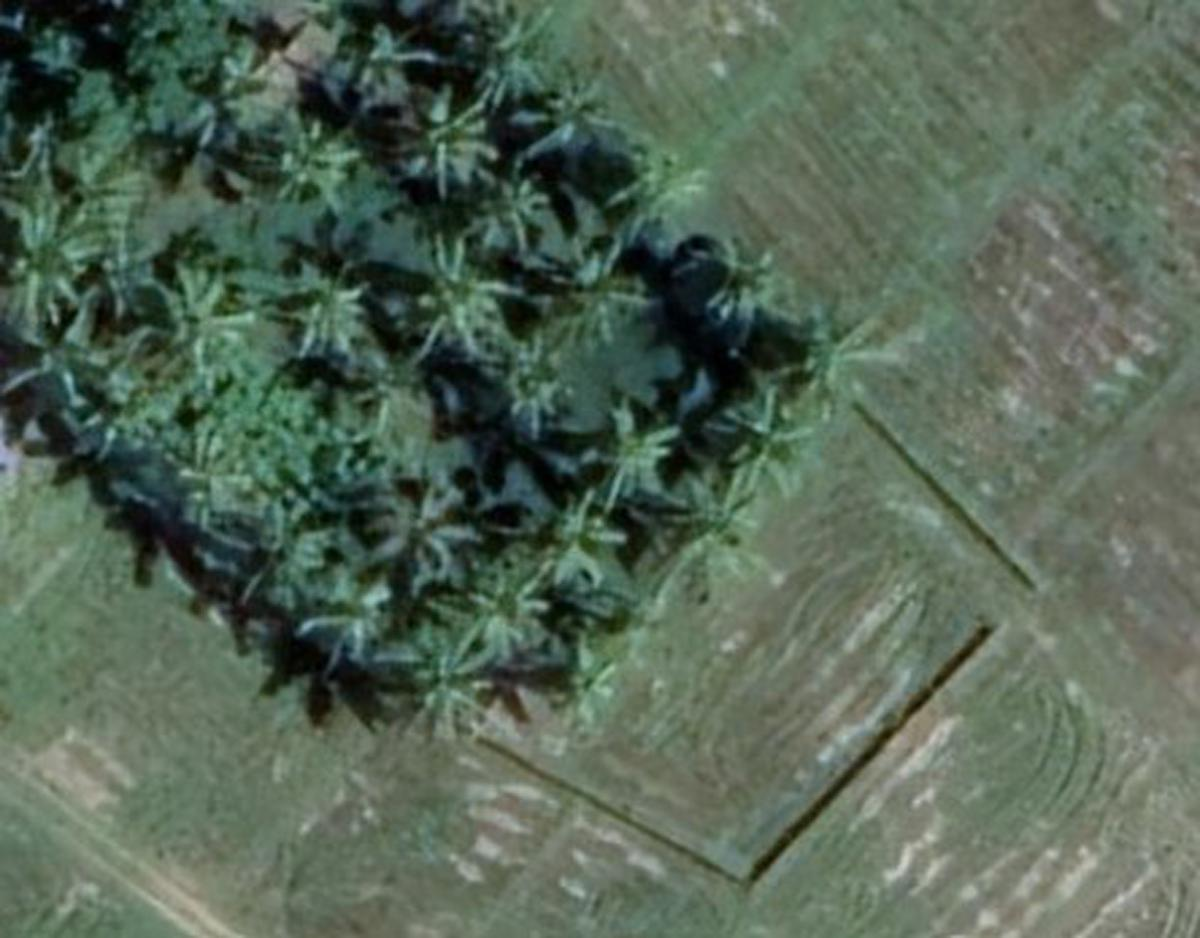coconut: (383, 602, 516, 743), (389, 229, 518, 373), (5, 278, 132, 410), (389, 78, 529, 191), (505, 67, 629, 189), (362, 470, 478, 597), (164, 40, 283, 162), (705, 386, 843, 491), (129, 254, 259, 364), (448, 548, 570, 664), (2, 189, 110, 316), (259, 105, 378, 218), (554, 397, 681, 502), (540, 248, 664, 348), (786, 305, 918, 394), (235, 494, 351, 594), (656, 462, 772, 559), (343, 346, 464, 437), (535, 491, 640, 594), (294, 573, 400, 675), (597, 145, 710, 240), (137, 432, 248, 527), (451, 2, 562, 97), (694, 237, 789, 340), (278, 270, 383, 362), (464, 170, 548, 245)
